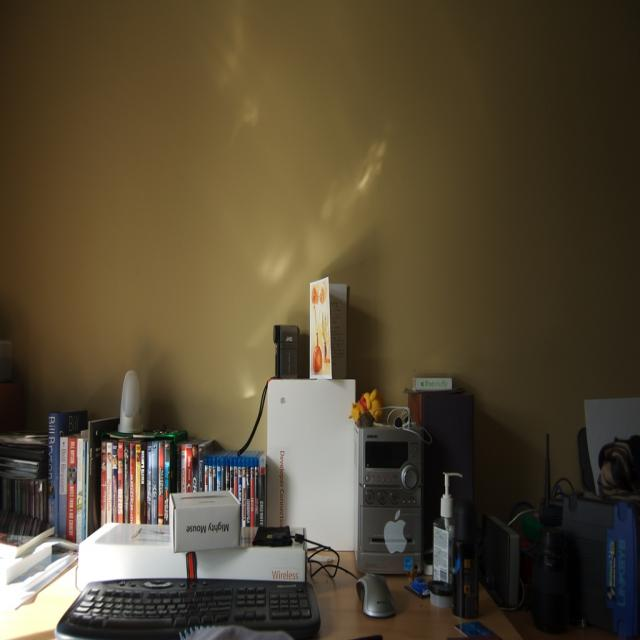desk: (0, 534, 624, 639)
keyboard: (54, 574, 321, 636)
mouse: (356, 571, 396, 617)
